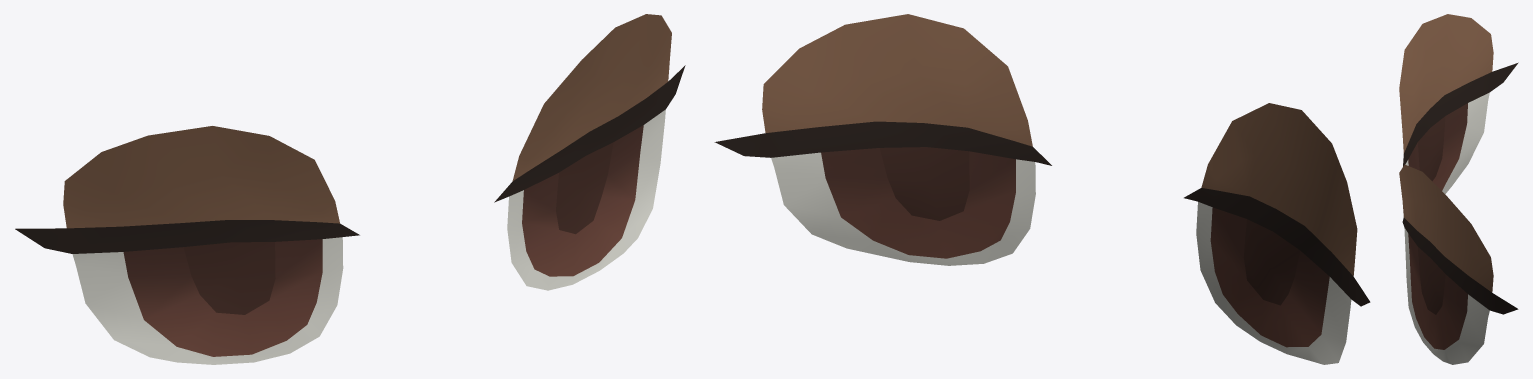
Rendered from Eye_Brown_4.fbx.
3 renders of one model, left to right at view 1: azimuth 30°, elevation 25°; view 2: azimuth 150°, elevation 25°; view 3: azimuth 270°, elevation 25°, orthographic. The views are drawn at different scales.
Visible parts, largest first — view 1: Eye_Brown_4; view 2: Eye_Brown_4; view 3: Eye_Brown_4.
Part boxes in pixels (x1,y1,x2,y2): Eye_Brown_4: (15,14,685,364); Eye_Brown_4: (714,14,1370,364); Eye_Brown_4: (1399,14,1518,364).
Bounding box in the file's own units: 41.23 × 14.51 × 8.45.
